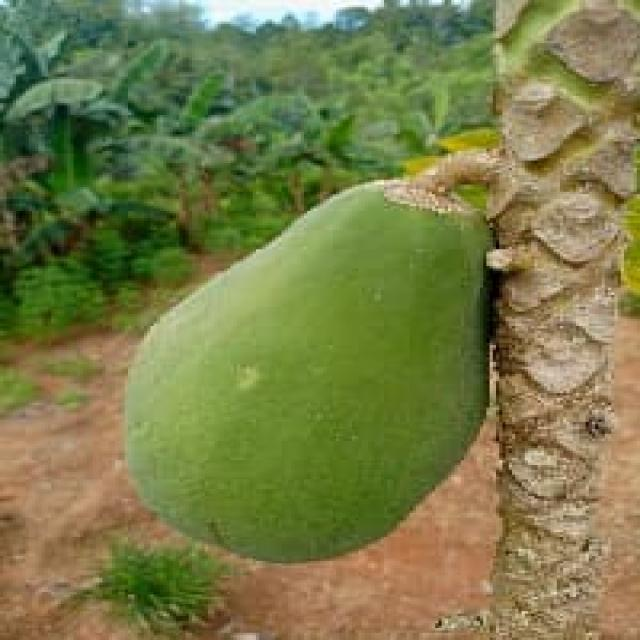Pepaya: (122, 175, 499, 563)
